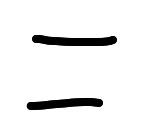eqv: (23, 31, 120, 111)
